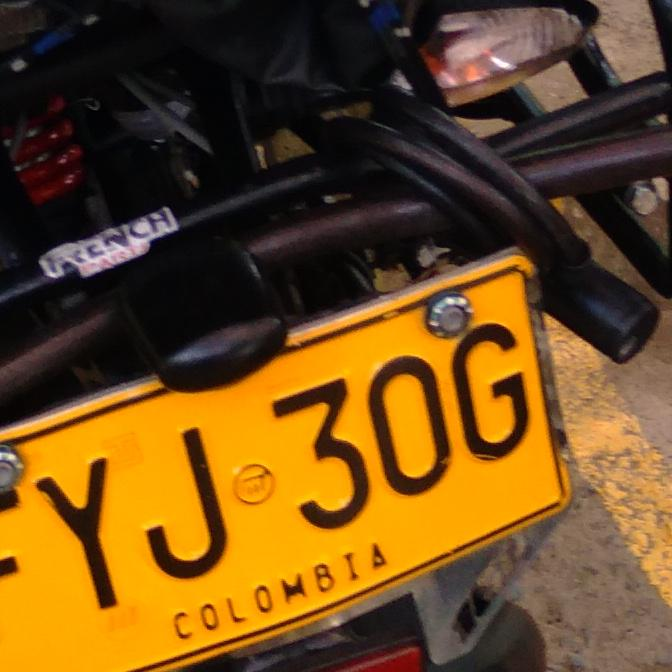plates: (0, 243, 579, 672)
